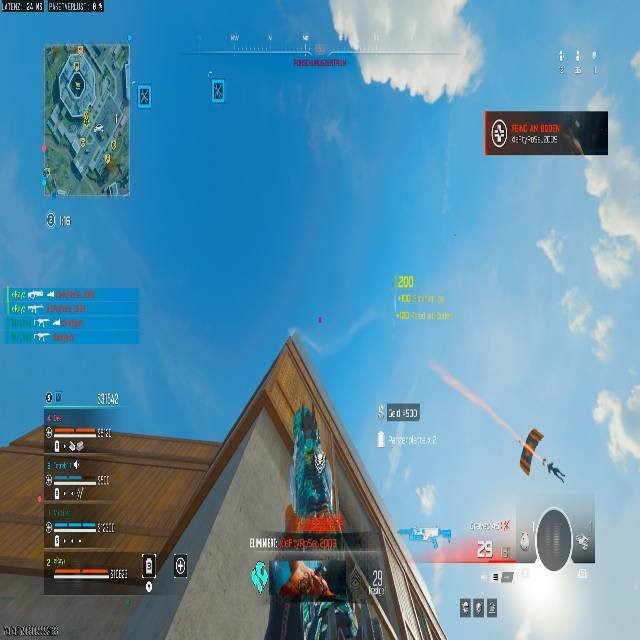head: (528, 428, 543, 443)
